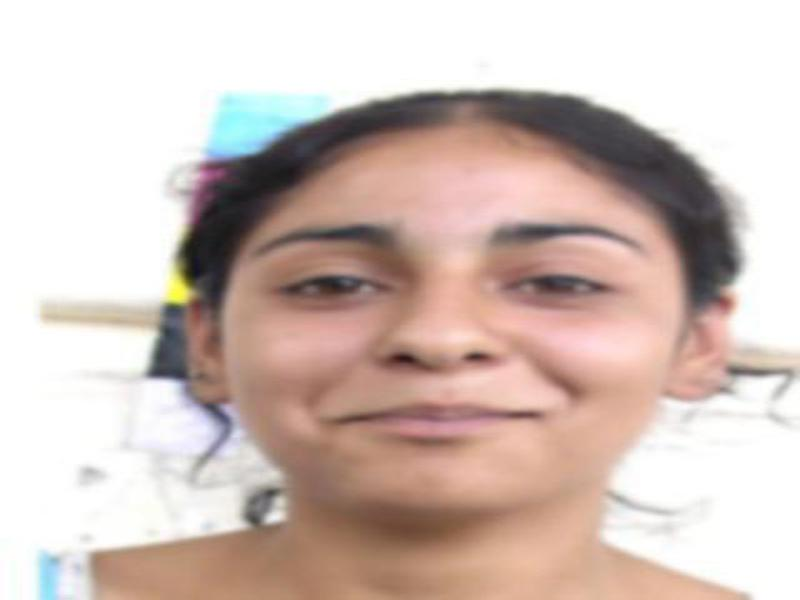without_mask: (233, 178, 672, 516)
